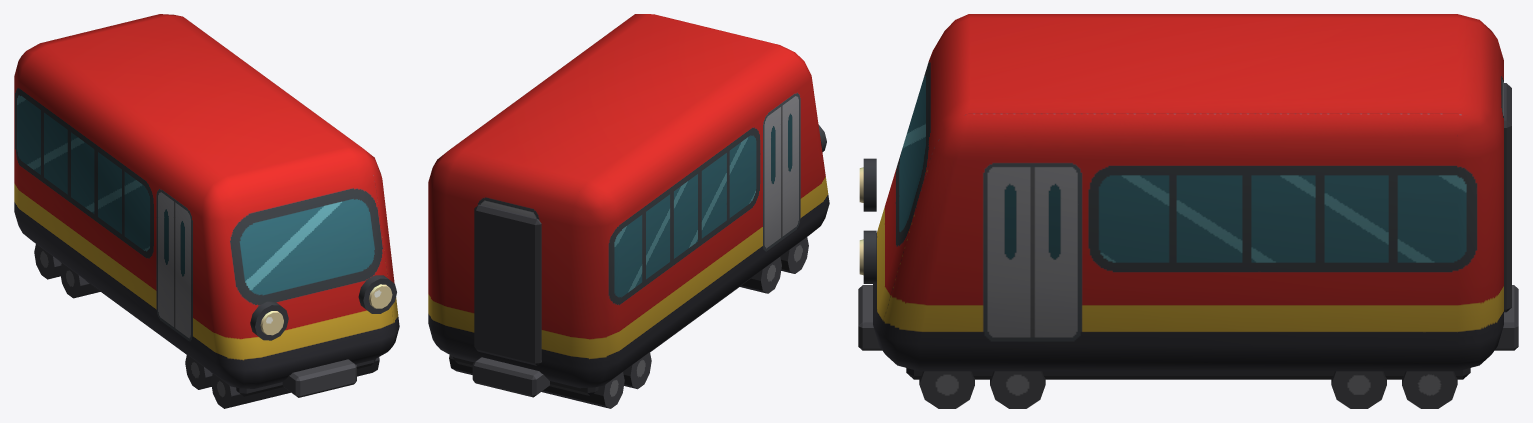
The model's file is ExpressCab_Red.fbx.
The picture shows the model from 3 angles, left to right: view 1: azimuth 30°, elevation 25°; view 2: azimuth 150°, elevation 25°; view 3: azimuth 270°, elevation 25°; orthographic projection. The views are drawn at different scales.
Parts seen in each view (by area): view 1: ExpressCab_Red; view 2: ExpressCab_Red; view 3: ExpressCab_Red.
Boxes of the visible parts, x1=… form: ExpressCab_Red: x1=14, y1=14, x2=399, y2=408; ExpressCab_Red: x1=428, y1=14, x2=829, y2=408; ExpressCab_Red: x1=858, y1=14, x2=1518, y2=408.
Size of the model in its own units: 7.6 by 8.96 by 17.8.
1 material, 1 textured.
